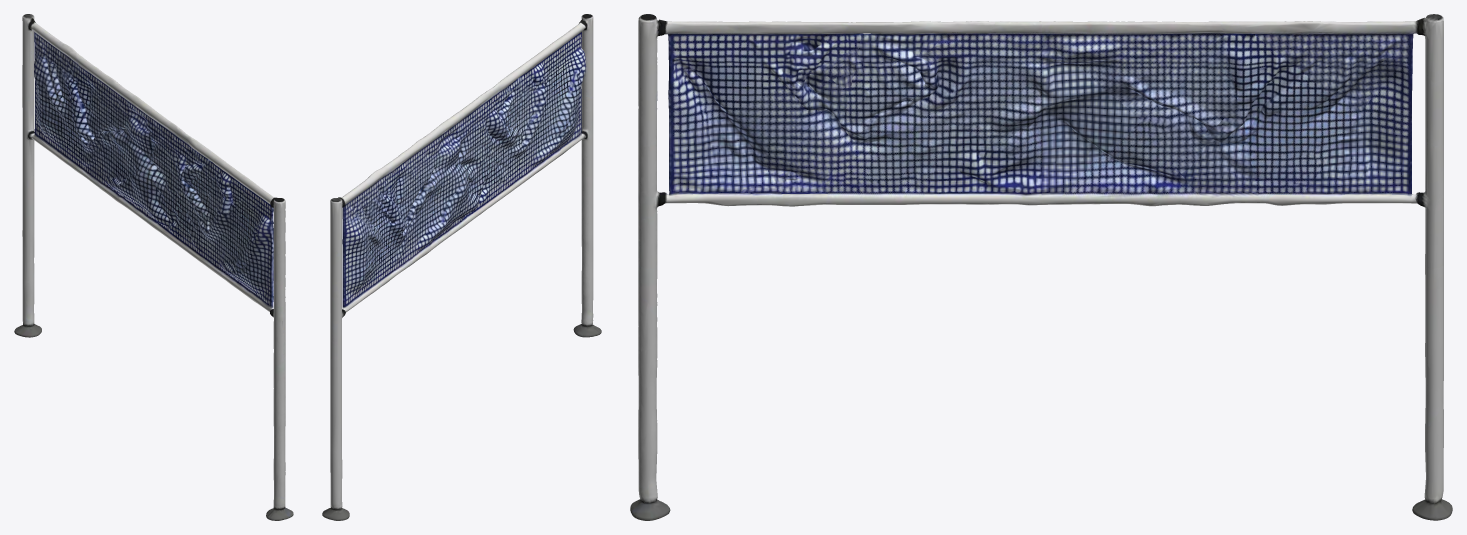
The model's file is badminton-net.glb.
3 renders of one model, left to right at view 1: azimuth 30°, elevation 25°; view 2: azimuth 150°, elevation 25°; view 3: azimuth 270°, elevation 25°, orthographic. The views are drawn at different scales.
Visible parts, largest first — view 1: tripo_node_00c747d8-5ea0-47e3-804b-20a06d8f289b; view 2: tripo_node_00c747d8-5ea0-47e3-804b-20a06d8f289b; view 3: tripo_node_00c747d8-5ea0-47e3-804b-20a06d8f289b.
Boxes of the visible parts, left/top/right/bottom form: tripo_node_00c747d8-5ea0-47e3-804b-20a06d8f289b: left=14, top=14, right=293, bottom=520; tripo_node_00c747d8-5ea0-47e3-804b-20a06d8f289b: left=322, top=14, right=601, bottom=520; tripo_node_00c747d8-5ea0-47e3-804b-20a06d8f289b: left=630, top=14, right=1452, bottom=520.
Bounding box in the file's own units: 0.0557 × 0.664 × 1.
1 material, 1 textured.
